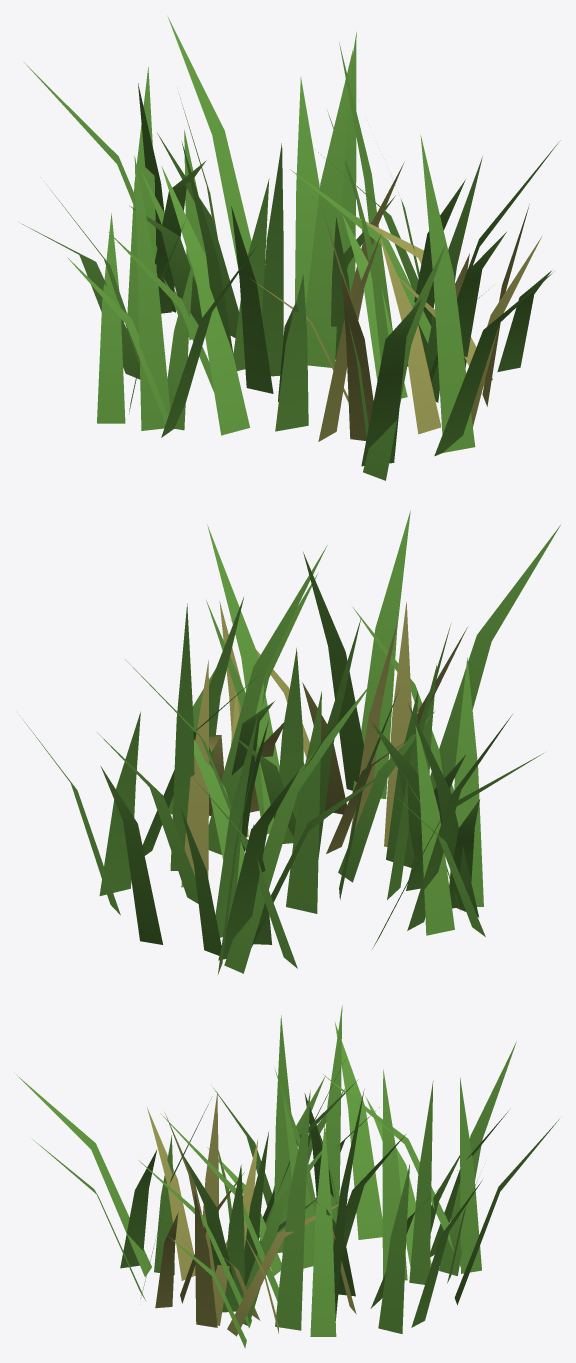
File: tuft.glb
3 views of the same model, one above another, from view 1: azimuth 30°, elevation 25°; view 2: azimuth 150°, elevation 25°; view 3: azimuth 270°, elevation 25° (orthographic). The views are drawn at different scales.
Visible parts, largest first — view 1: tuft; view 2: tuft; view 3: tuft.
Boxes of the visible parts, bbox=[...] form: tuft: bbox=[19, 16, 560, 480]; tuft: bbox=[23, 510, 560, 974]; tuft: bbox=[14, 1005, 559, 1348].
Bounding box in the file's own units: 1.35 × 0.8484 × 1.88.
